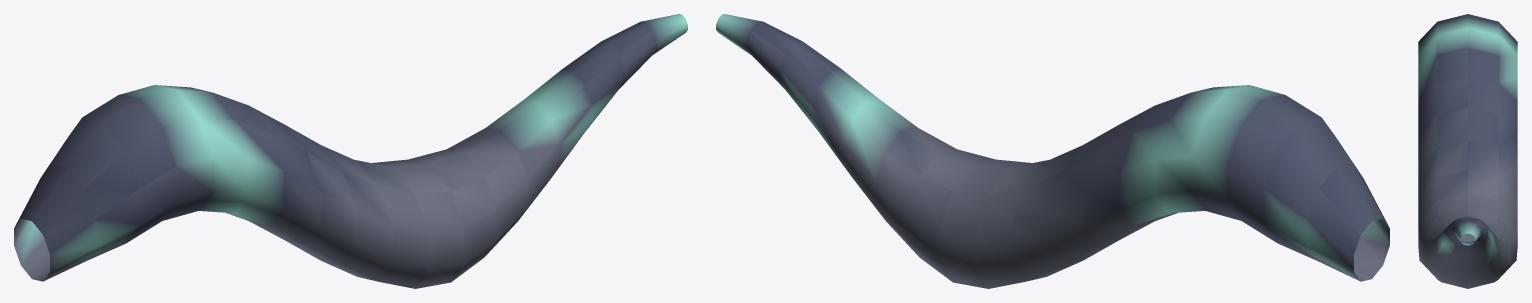
File: Leviathan.glb
3 renders of one model, left to right at view 1: azimuth 30°, elevation 25°; view 2: azimuth 150°, elevation 25°; view 3: azimuth 270°, elevation 25°, orthographic. The views are drawn at different scales.
Visible parts, largest first — view 1: Leviathan; view 2: Leviathan; view 3: Leviathan.
Boxes of the visible parts, x1,y1,x2,y2 form: Leviathan: (14,14,687,288); Leviathan: (716,14,1389,288); Leviathan: (1418,14,1517,288).
Size of the model in its own units: 1 by 0.3661 by 0.1902.
